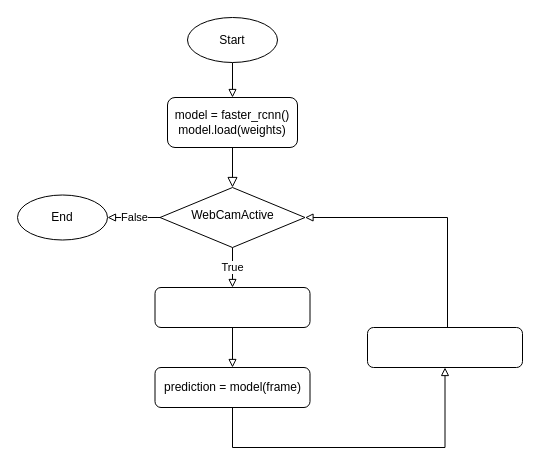
Some shapes in this 540 by 473 pixel diagram are drawn without their labels. The shapes that lost their labels are listed below. From the top down, each one's centre as x and y in pixels, then its label:
[232,307]: frame = WebCam.read()
[444,347]: draw(prediction)
